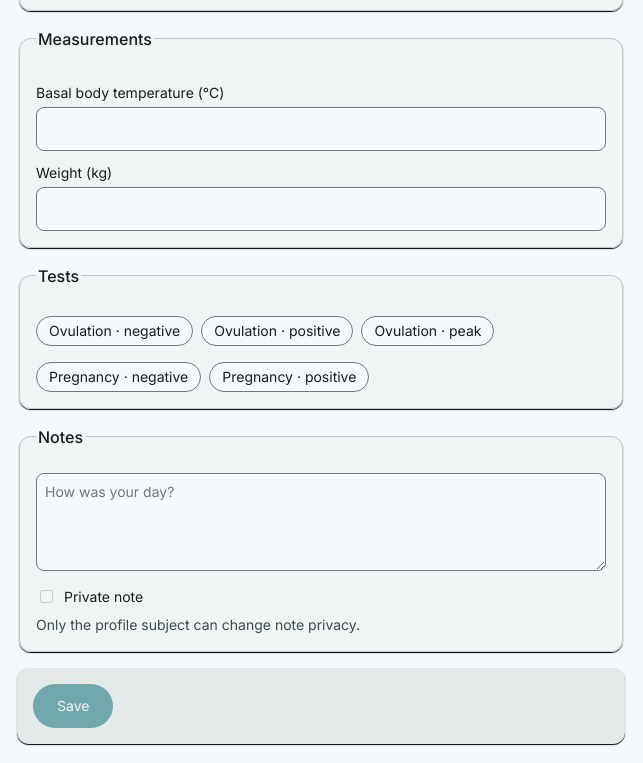
DayPage (issue #1254) › hides the metadata sections from a caregiver but keeps the day editable
(page scrolled)
Type "from the caregiver" into the text box named "Notes" at (321, 522), box [36,472,606,570]
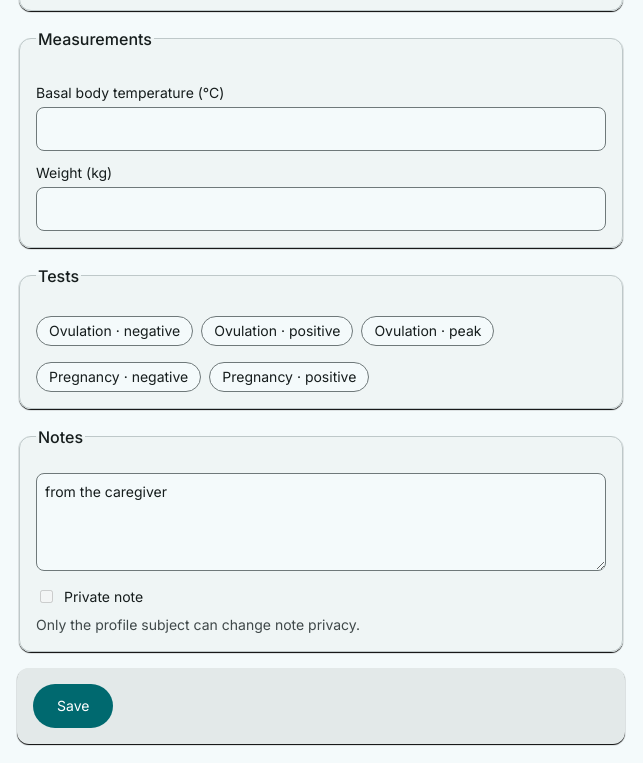
Expected: the button "Save" is enabled, [33,684,113,728]
